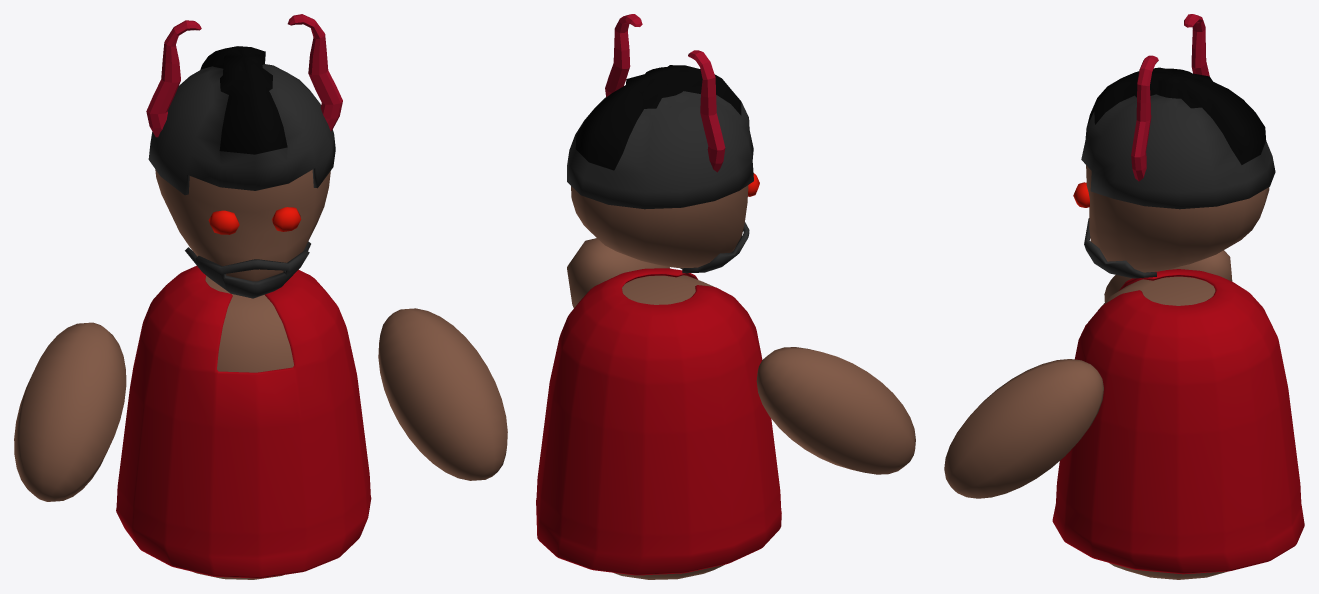
Rendered from futulu_hell.fbx.
The picture shows the model from 3 angles, left to right: view 1: azimuth 30°, elevation 25°; view 2: azimuth 150°, elevation 25°; view 3: azimuth 270°, elevation 25°; orthographic projection. The views are drawn at different scales.
Parts seen in each view (by area): view 1: dress, Woman, hair, Cube, BEBAR, eyes; view 2: dress, Woman, hair, Cube, BEBAR; view 3: dress, Woman, hair, Cube, BEBAR.
Boxes of the visible parts, x1,y1,x2,y2 form: dress: [116, 265, 371, 578]; Woman: [14, 169, 507, 579]; hair: [148, 46, 335, 195]; Cube: [146, 14, 342, 137]; BEBAR: [185, 241, 310, 298]; eyes: [208, 207, 301, 234]; dress: [536, 268, 781, 575]; Woman: [567, 185, 915, 579]; hair: [567, 65, 753, 209]; Cube: [605, 14, 725, 172]; BEBAR: [680, 222, 749, 273]; dress: [1052, 269, 1304, 574]; Woman: [944, 165, 1269, 579]; hair: [1081, 67, 1275, 209]; Cube: [1131, 14, 1209, 181]; BEBAR: [1084, 218, 1156, 278].
Bounding box in the file's own units: 385 × 485 × 308.
